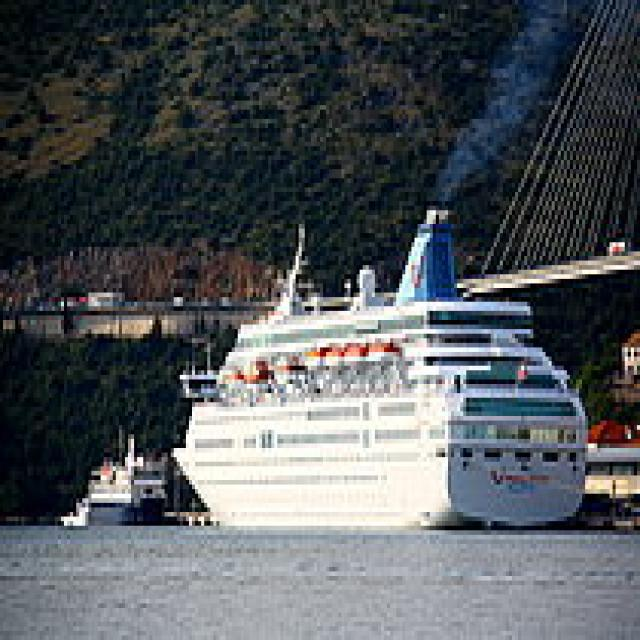Ship: (172, 207, 602, 546)
